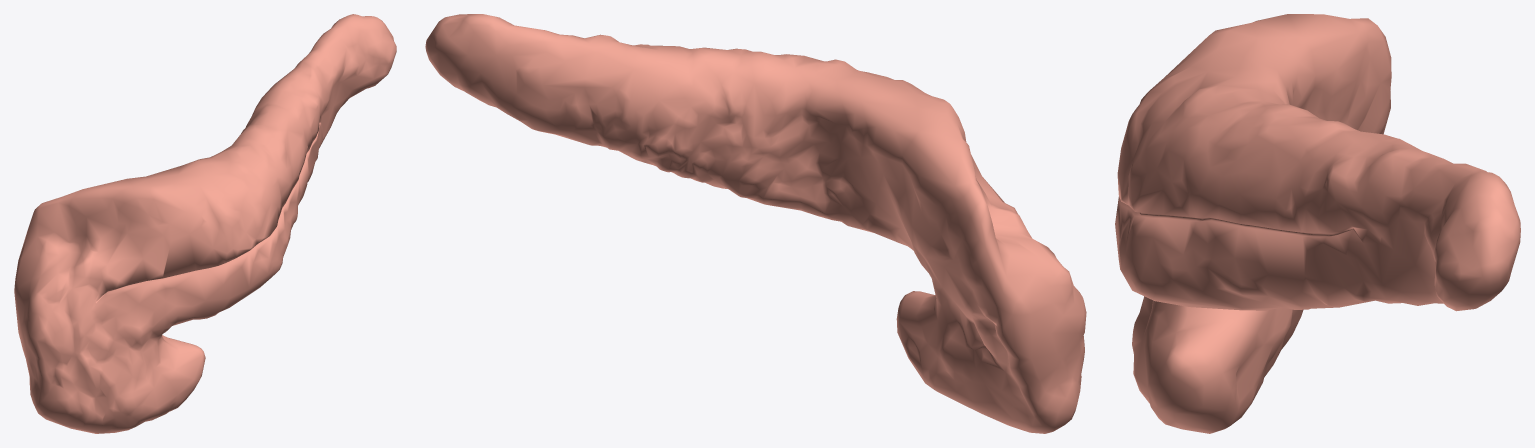
Rendered from Pancreas.glb.
3 views of the same model, side by side, from view 1: azimuth 30°, elevation 25°; view 2: azimuth 150°, elevation 25°; view 3: azimuth 270°, elevation 25° (orthographic). The views are drawn at different scales.
Visible parts, largest first — view 1: Pancreas; view 2: Pancreas; view 3: Pancreas.
Part boxes in pixels (x1=…): Pancreas: x1=14, y1=14, x2=396, y2=433; Pancreas: x1=425, y1=14, x2=1086, y2=433; Pancreas: x1=1115, y1=14, x2=1520, y2=433.
Bounding box in the file's own units: 0.1287 × 0.0803 × 0.0581.
